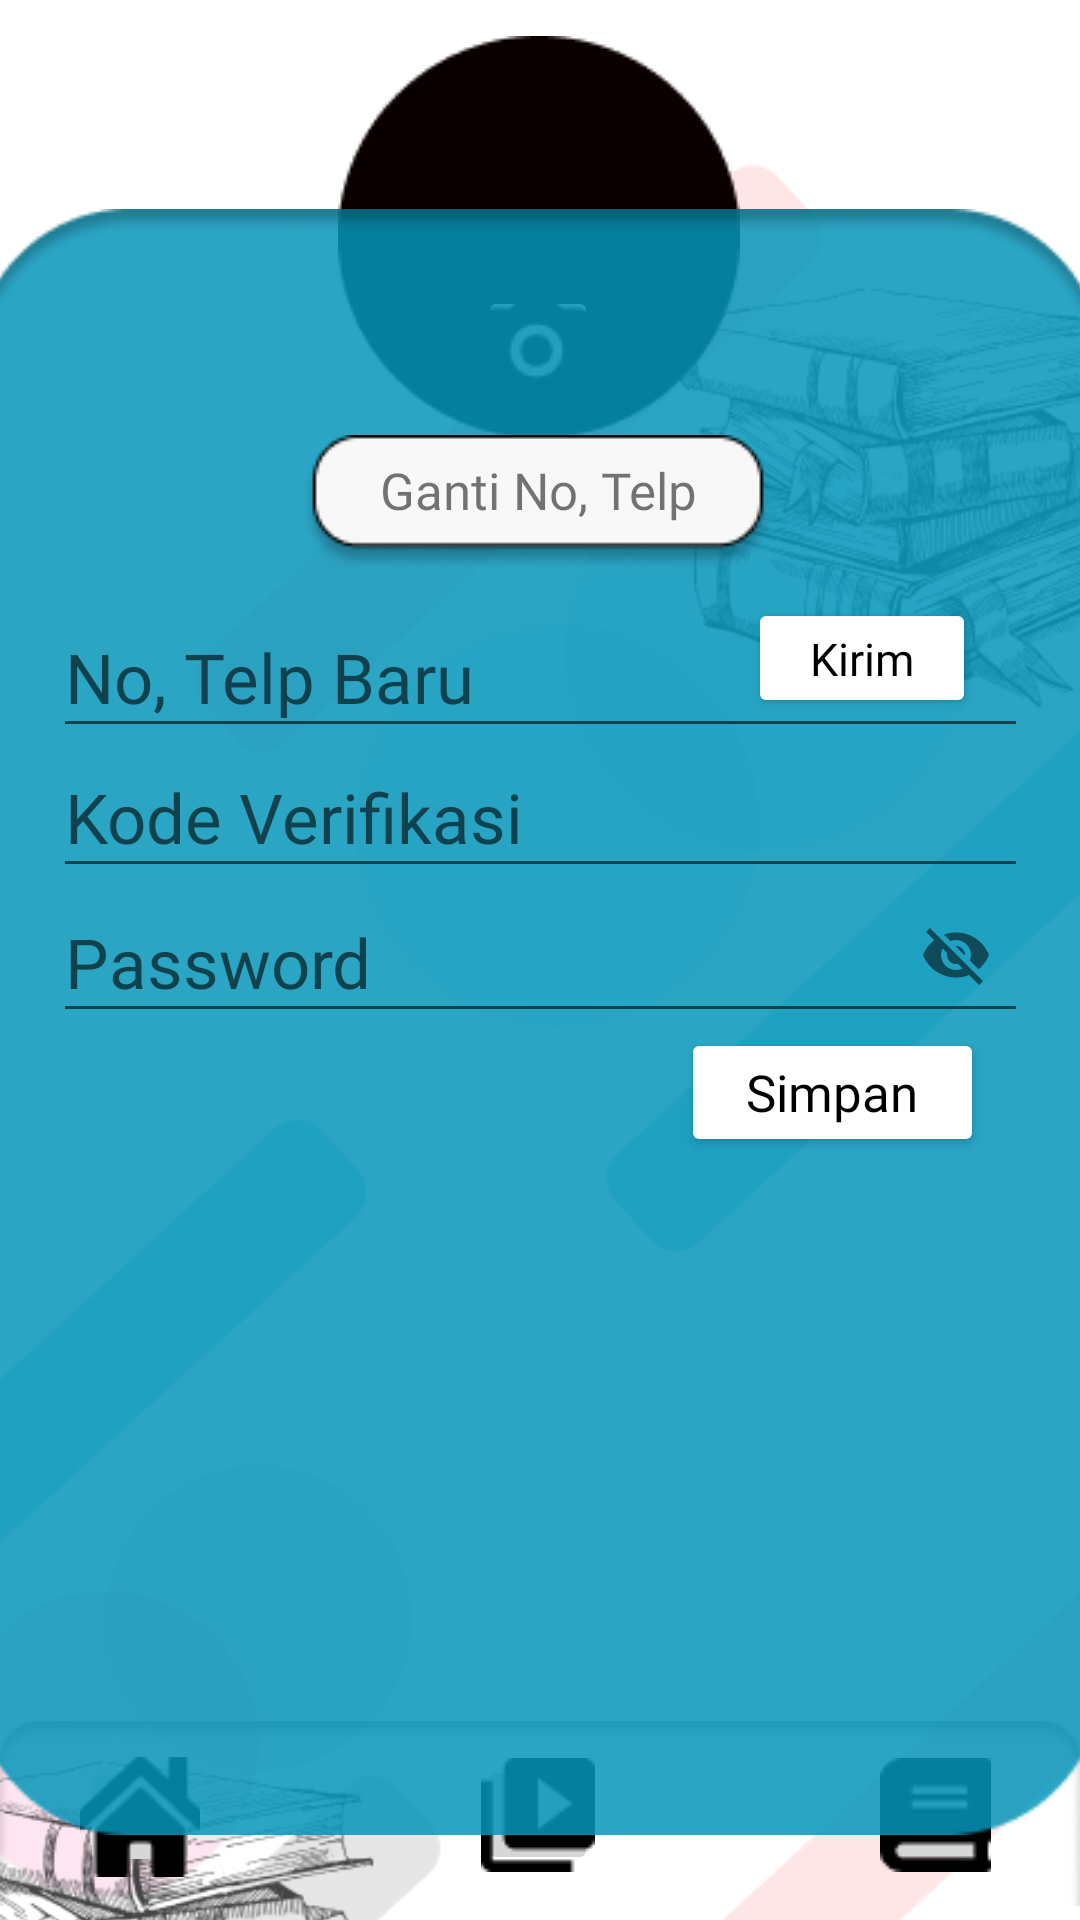

Point at icon controls on the screen. Image size 1080 × 1920, points as (x,y).
ebook: (935,1815)
home: (140,1817)
video: (538,1815)
